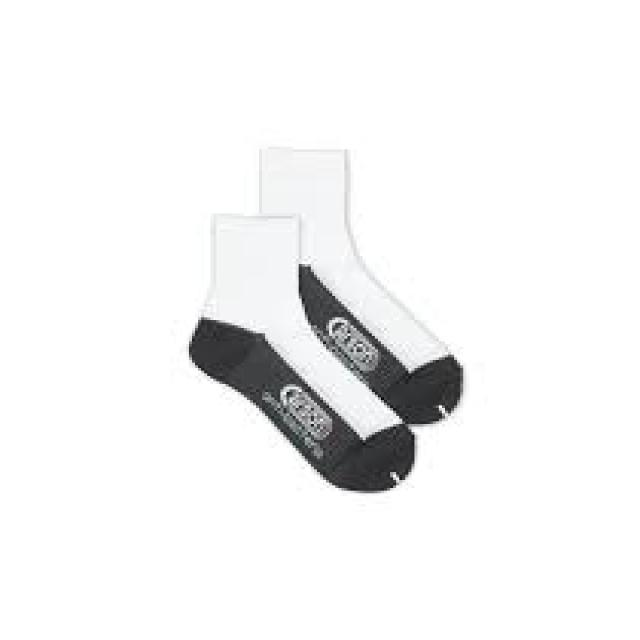sock: (256, 144, 463, 424)
